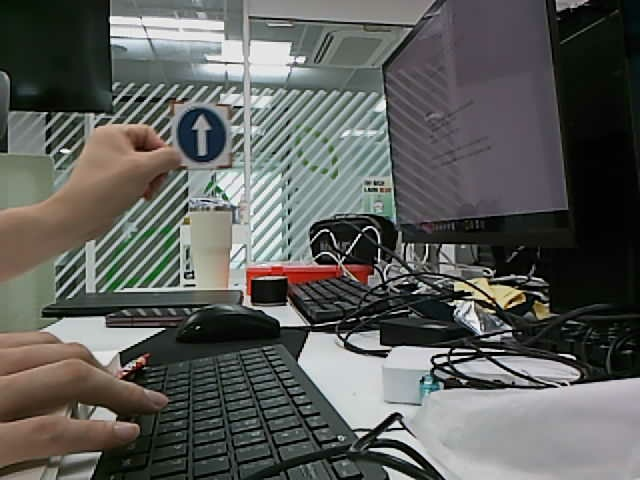go: (176, 108, 227, 164)
